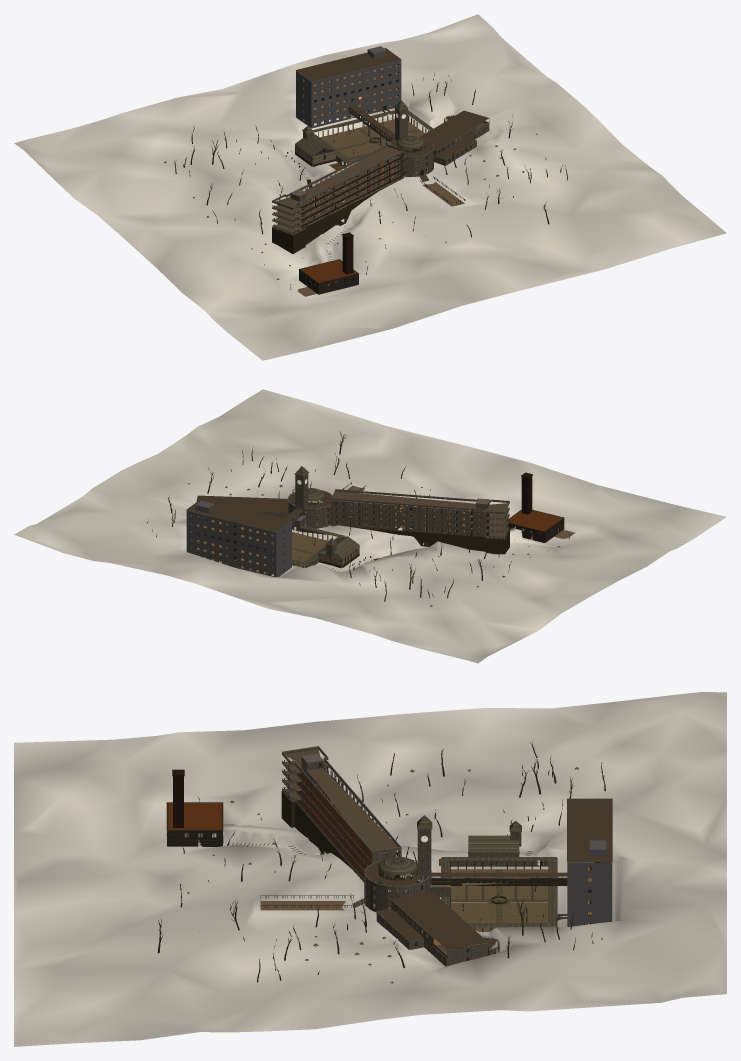
Rendered from sana.glb.
The picture shows the model from 3 angles, top to bottom: view 1: azimuth 30°, elevation 25°; view 2: azimuth 150°, elevation 25°; view 3: azimuth 270°, elevation 25°; orthographic projection. The views are drawn at different scales.
Bounding box in the file's own units: 280 × 63.33 × 260.
108 materials, 80 textured.
